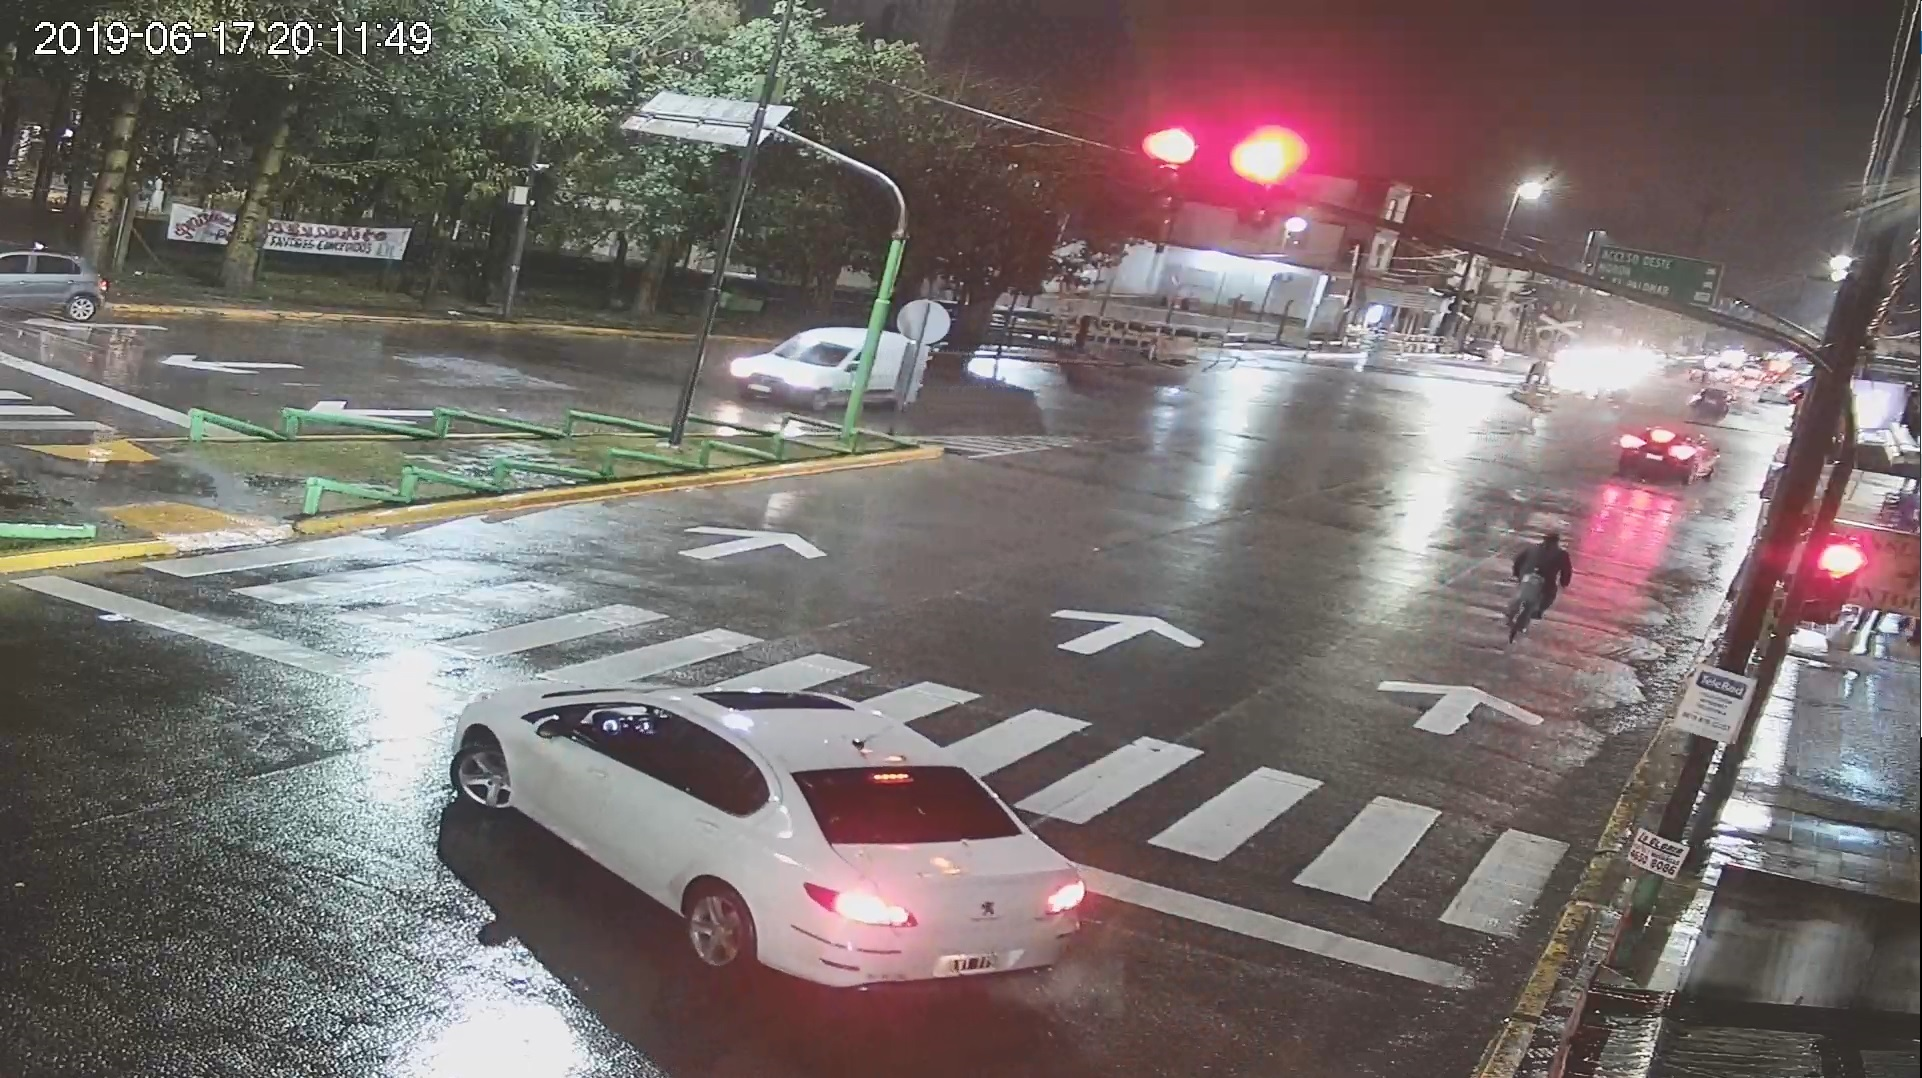bike: (1494, 523, 1576, 649)
car: (447, 649, 1098, 1015), (725, 315, 936, 420), (3, 243, 115, 333), (1616, 414, 1725, 503)
